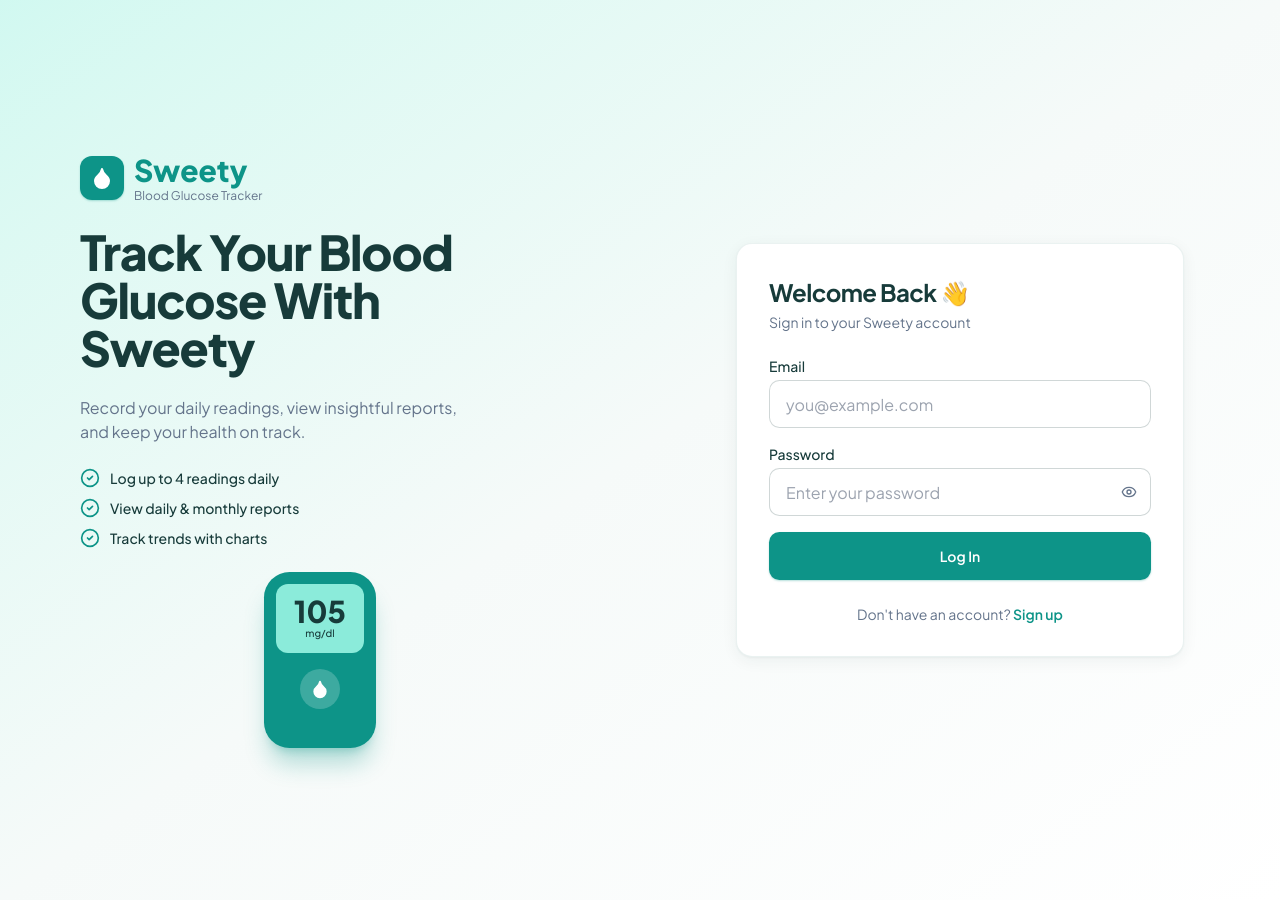
Test: Login page › shows inline validation errors for empty fields
Click the button "Log In" at {"x": 960, "y": 556}, box [769,532,1151,580]
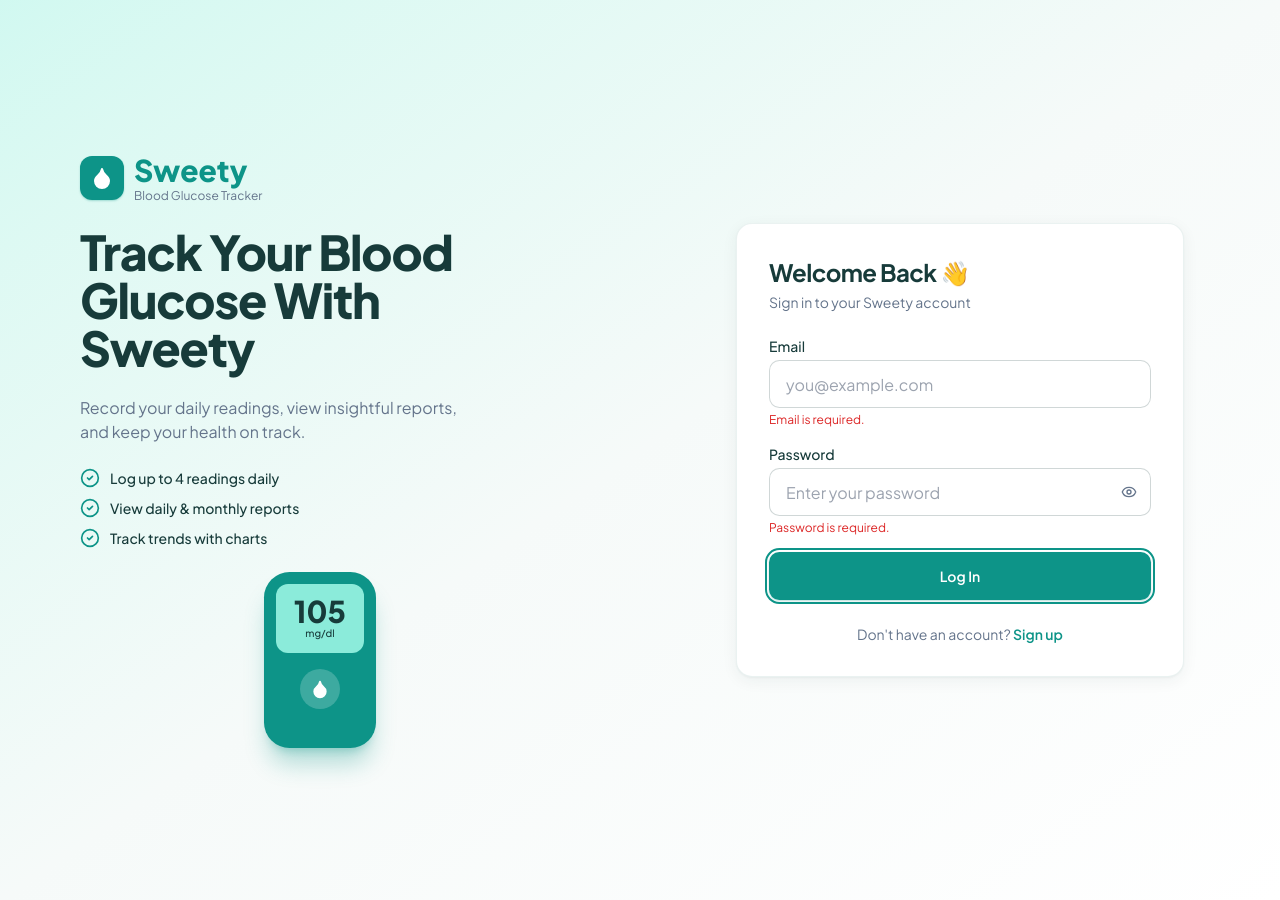
Result: the text "Email is required." is shown at [769,412,864,427]
Result: the text "Password is required." is shown at [769,520,889,535]
